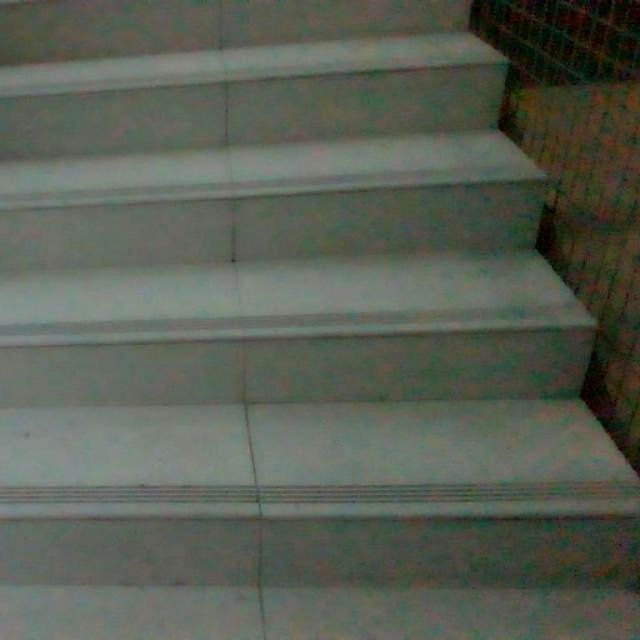stair: (20, 0, 628, 575)
